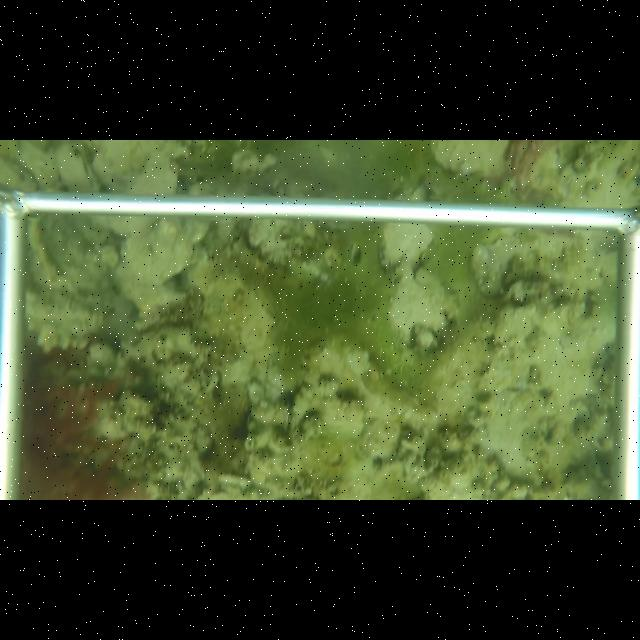Oyster-Closed: (54, 141, 102, 192)
